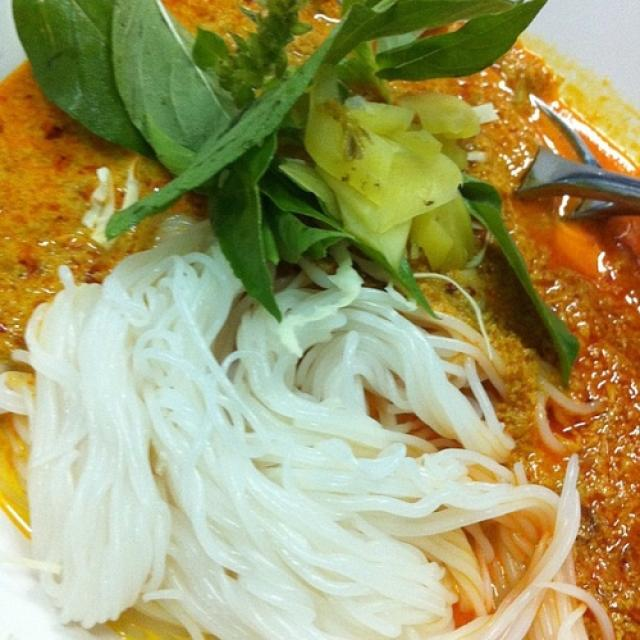面条主食: (8, 21, 627, 624)
